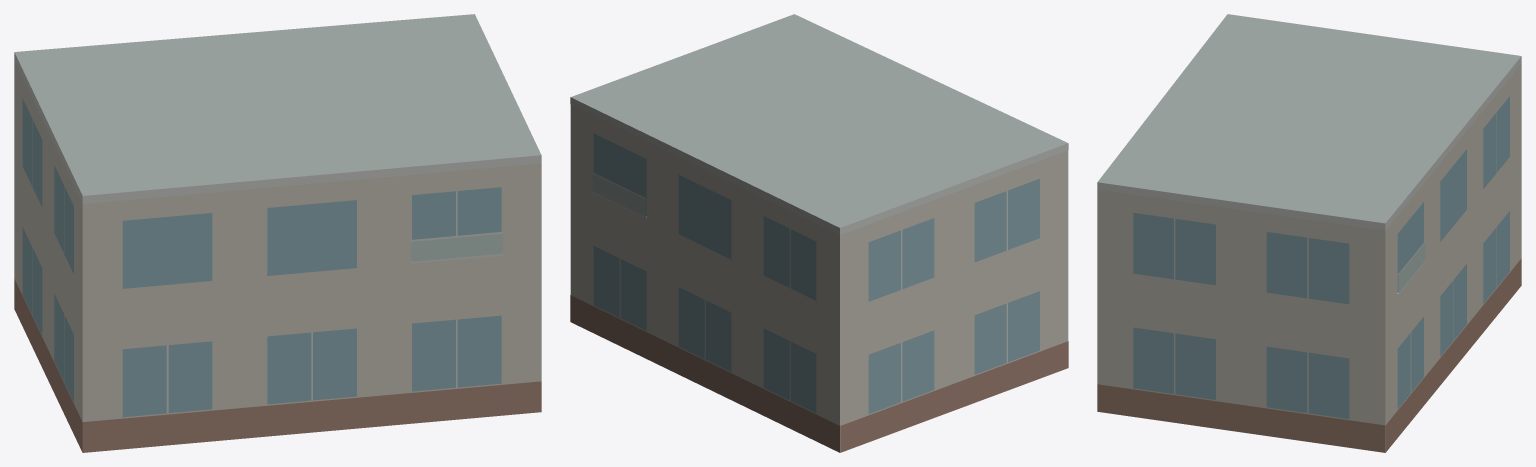
File: survey-upis-32769875.glb
The picture shows the model from 3 angles, left to right: view 1: azimuth 30°, elevation 25°; view 2: azimuth 150°, elevation 25°; view 3: azimuth 270°, elevation 25°; orthographic projection. The views are drawn at different scales.
Parts seen in each view (by area): view 1: survey-upis-32769875.tmp; view 2: survey-upis-32769875.tmp; view 3: survey-upis-32769875.tmp.
Part boxes in pixels (box(x1,y1,x2,y2)): survey-upis-32769875.tmp: box(14, 14, 541, 452); survey-upis-32769875.tmp: box(570, 14, 1068, 452); survey-upis-32769875.tmp: box(1097, 14, 1521, 452).
Bounding box in the file's own units: 15.28 × 7.8 × 13.08.
